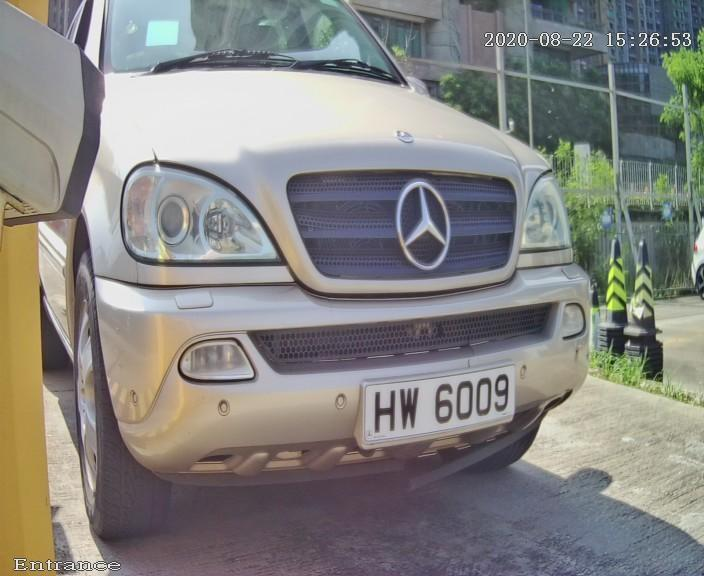License Plate: (329, 335, 566, 461)
